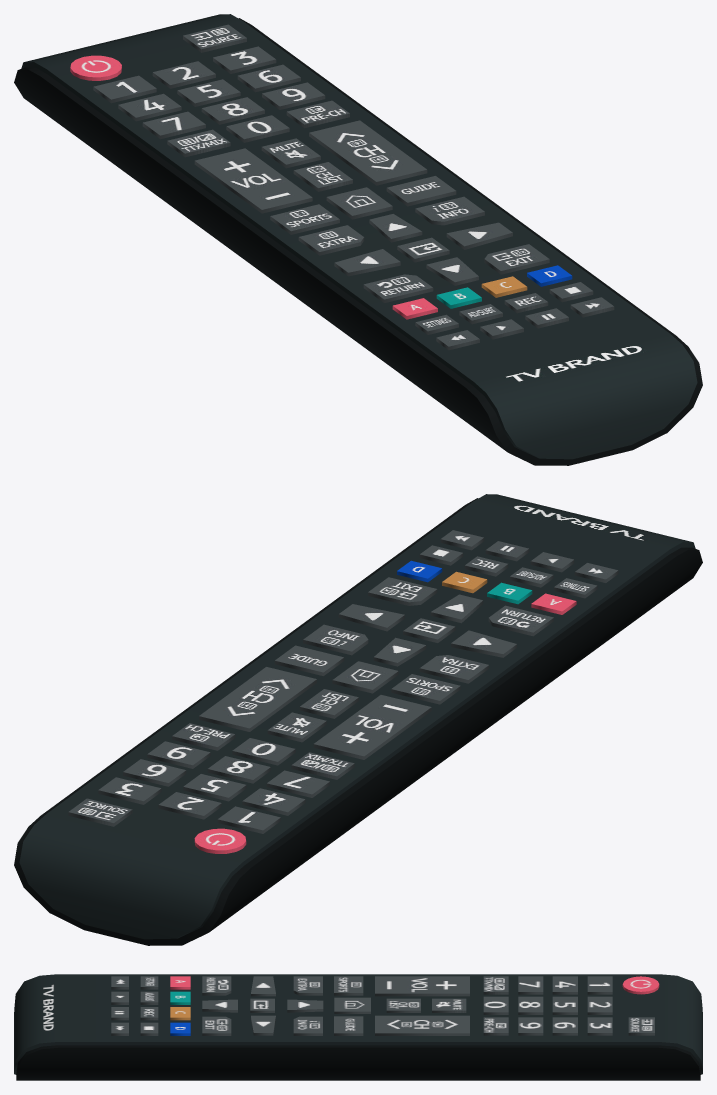
File: remote.glb
3 renders of one model, top to bottom at view 1: azimuth 30°, elevation 25°; view 2: azimuth 150°, elevation 25°; view 3: azimuth 270°, elevation 25°, orthographic. The views are drawn at different scales.
Parts seen in each view (by area): view 1: Plane_Plane.001; view 2: Plane_Plane.001; view 3: Plane_Plane.001.
Boxes of the visible parts, bbox=[...] form: Plane_Plane.001: bbox=[14, 14, 702, 465]; Plane_Plane.001: bbox=[14, 494, 702, 945]; Plane_Plane.001: bbox=[14, 974, 702, 1080].
Bounding box in the file's own units: 4.51 × 1.69 × 18.04.
Materials: 3 (3 with a texture image).
